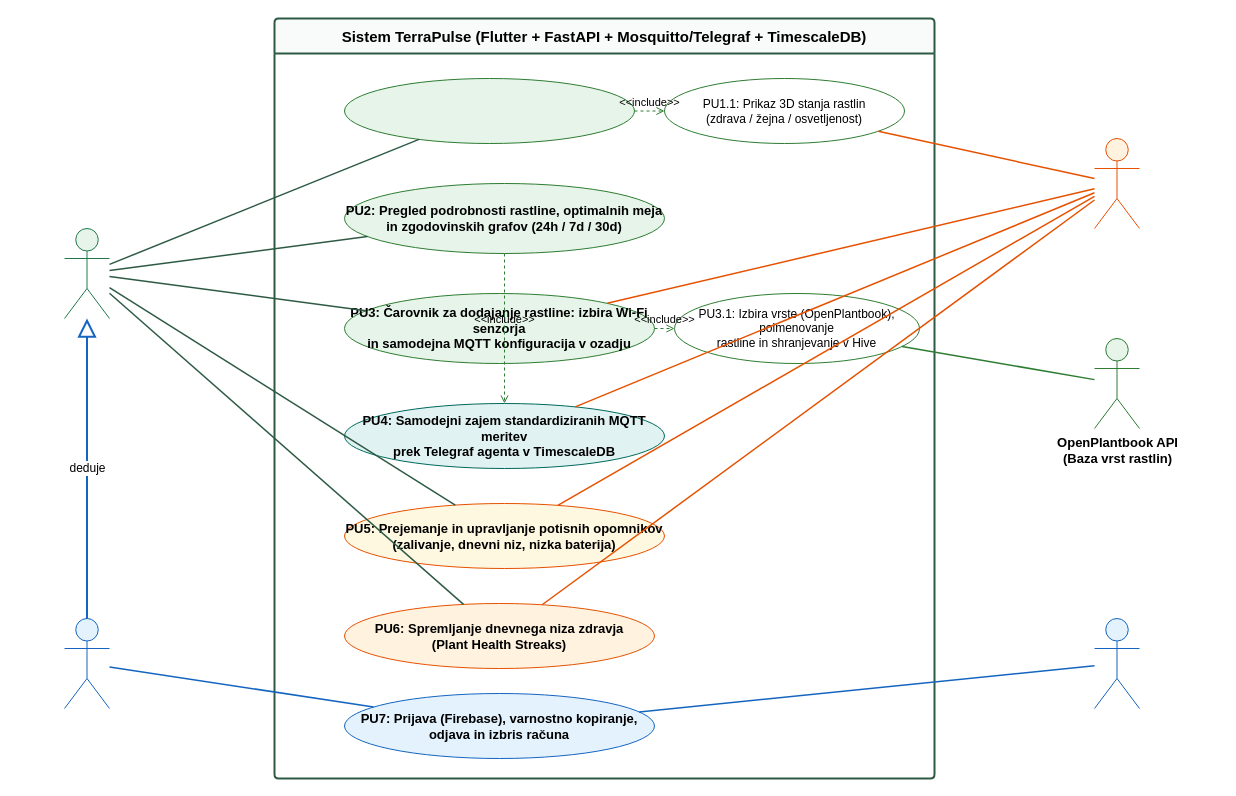
The diagram is 1236 pixels wide and 796 high, and some of its shapes have lost their labels. Each missing label, with the box of its shape:
Firebase Authentication (Oblačna prijava): (1094, 618, 1140, 708)
IoT Senzor (npr. SOILSENS-V5W) [Standardiziran MQTT JSON]: (1094, 138, 1140, 228)
Neprijavljen uporabnik (Lokalni profil - Hive): (64, 228, 110, 318)
Prijavljen uporabnik (Firebase Auth): (64, 618, 110, 708)
PU1: Pregled 3D ambientnega vrta in seznama rastlin: (344, 78, 634, 144)
